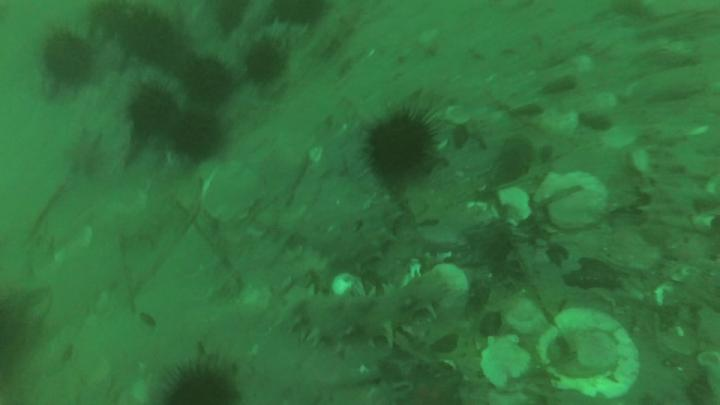echinus: (367, 113, 432, 175), (45, 33, 94, 87), (133, 82, 177, 135), (168, 370, 232, 405), (122, 17, 174, 60), (187, 59, 232, 108), (174, 117, 221, 157), (245, 38, 281, 78), (156, 38, 194, 75), (274, 2, 327, 24), (214, 1, 245, 32)
holothurian: (281, 273, 447, 347), (298, 199, 401, 274)
scallop: (539, 306, 640, 400), (542, 170, 610, 229), (196, 167, 264, 221), (479, 338, 534, 388)
